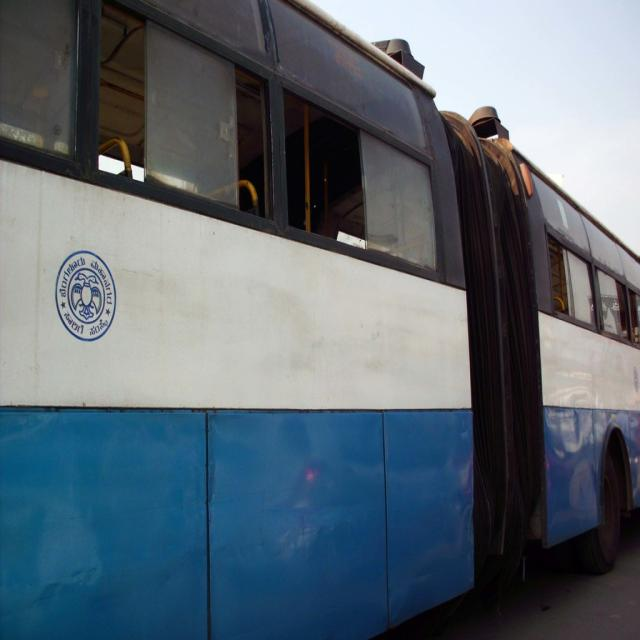Buses: (457, 105, 640, 614)
